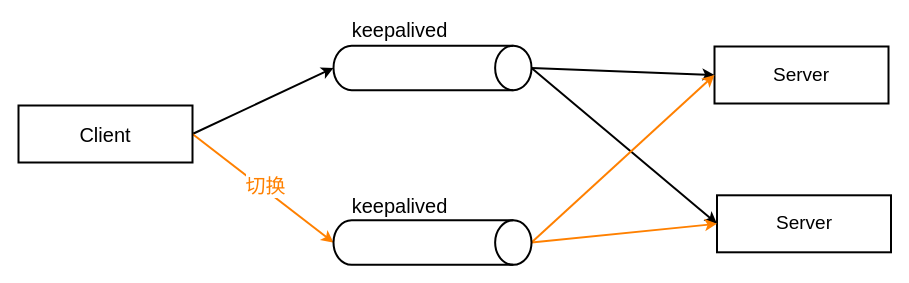
Some shapes in this 909 by 283 pixel diagram are drawn without their labels. Here are the shapes that lost their labels. From the top down, the box of each, then its label:
(332, 44, 532, 91): Master Nginx
(332, 219, 532, 265): BackUp Nginx
